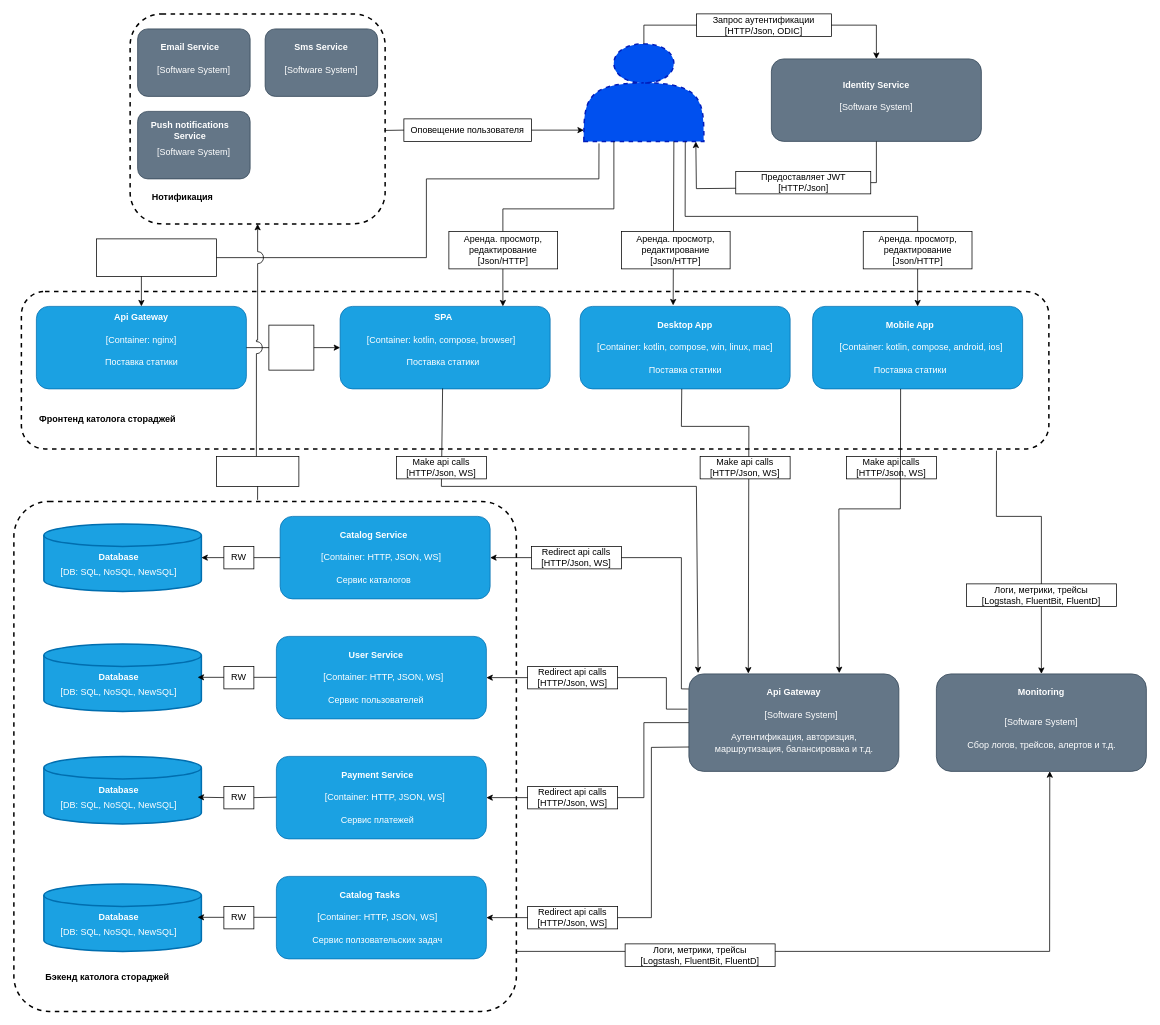
This 1160x1025 diagram has some shape labels left out. The shapes that lost their labels are listed below. From the top down, each one's box as (x1, y1, x2, y2) in pixels, then its label:
(96, 238, 216, 276): Переходит на catalog.storage.net [HTTP]
(268, 324, 314, 370): Получает контент [HTTP]
(216, 456, 299, 486): Отправка Email [RabbitMQ, Kafka]
